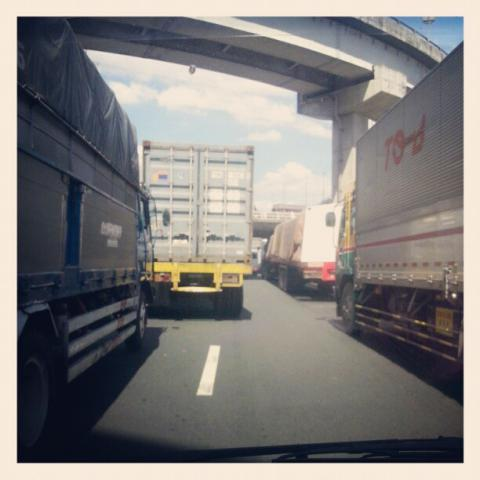truck: (19, 20, 157, 459), (326, 44, 464, 362), (145, 143, 255, 317), (260, 204, 337, 296)
